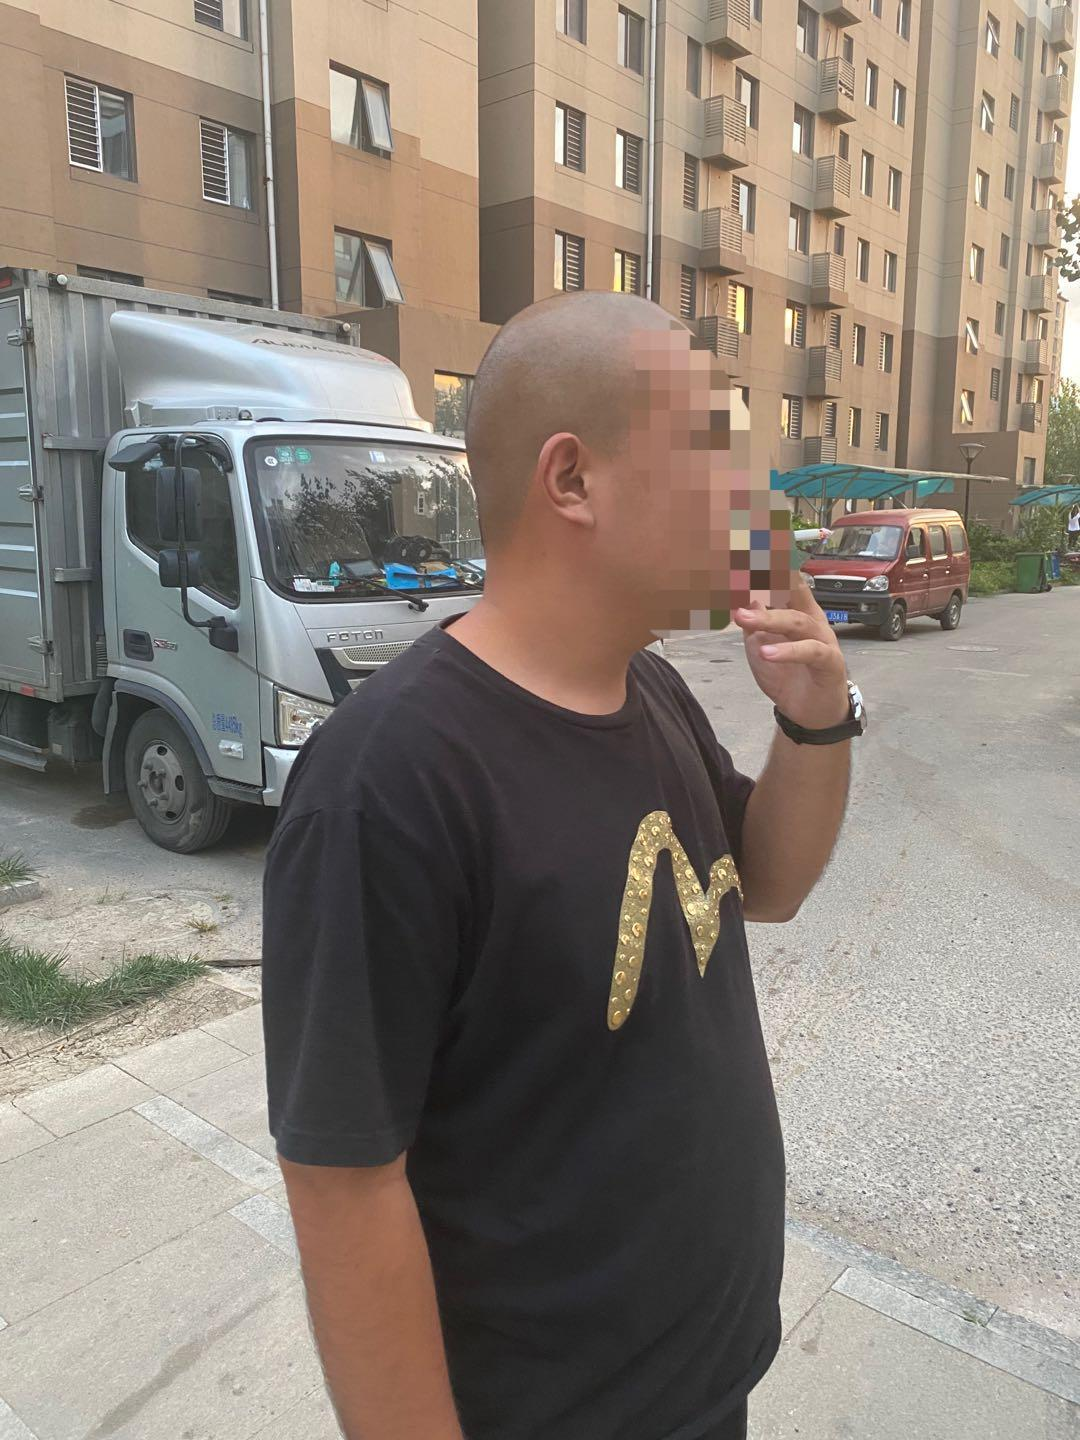noear: (522, 415, 650, 569)
unhalt: (457, 290, 761, 657)
